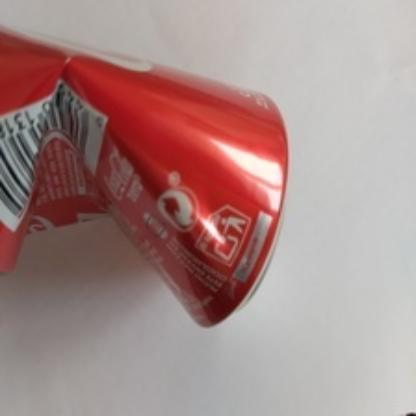Can: (0, 23, 289, 327)
